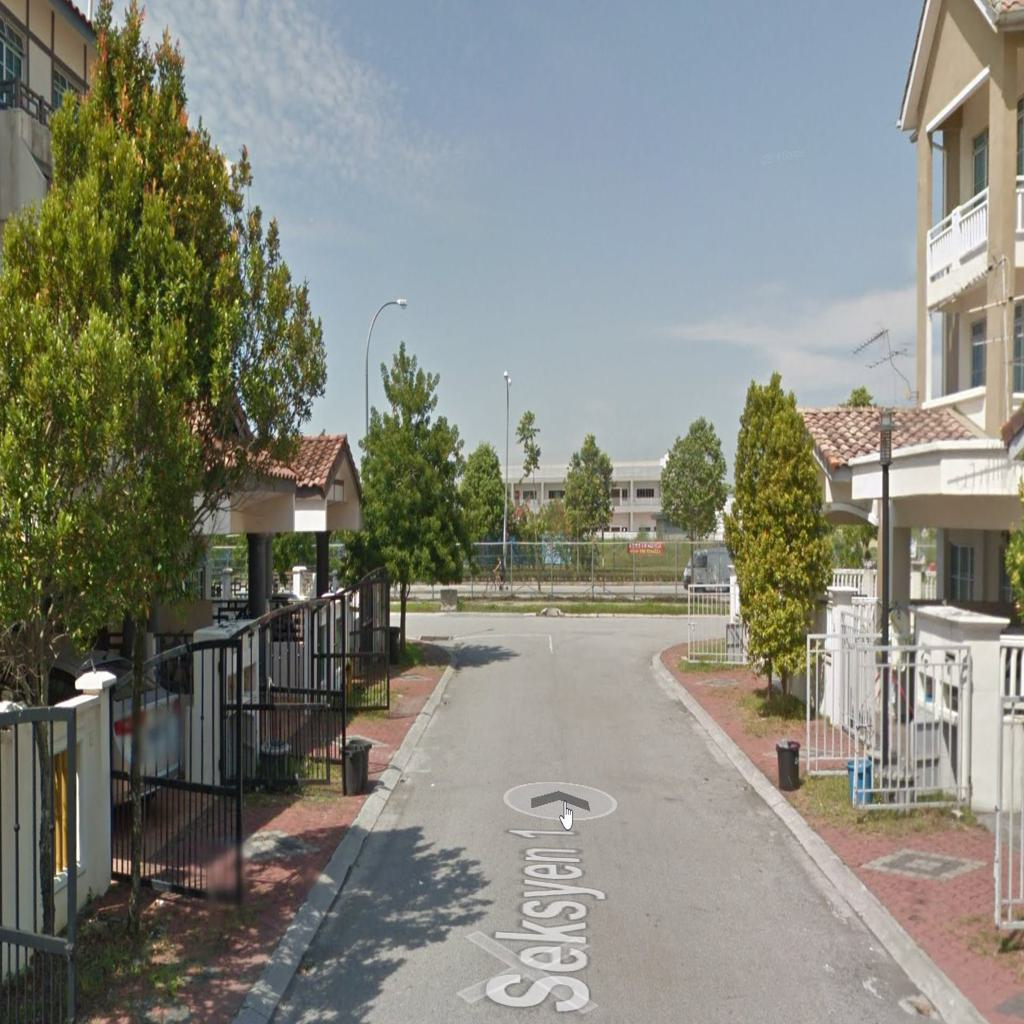Junction: (597, 595, 722, 681), (386, 600, 473, 669)
